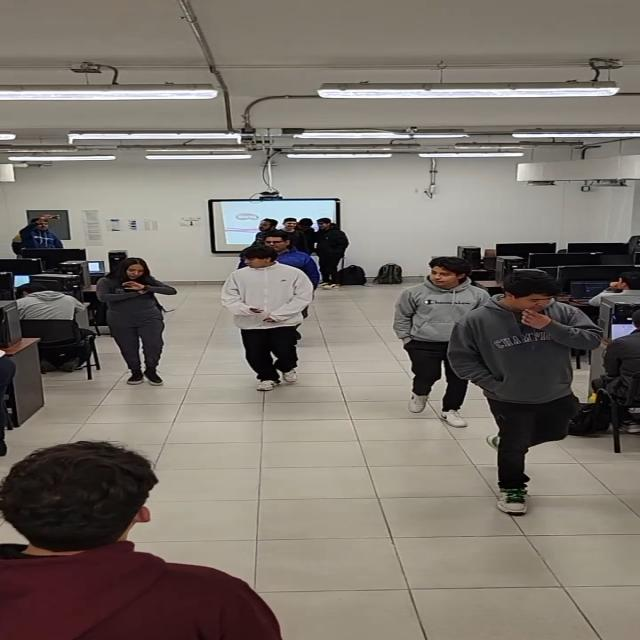Persona: (0, 436, 290, 640), (449, 271, 600, 521), (390, 250, 476, 428), (224, 245, 317, 394), (94, 256, 177, 391), (316, 212, 346, 292)
